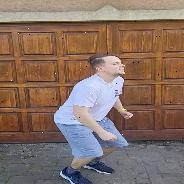high_jumps: (48, 45, 137, 184)
